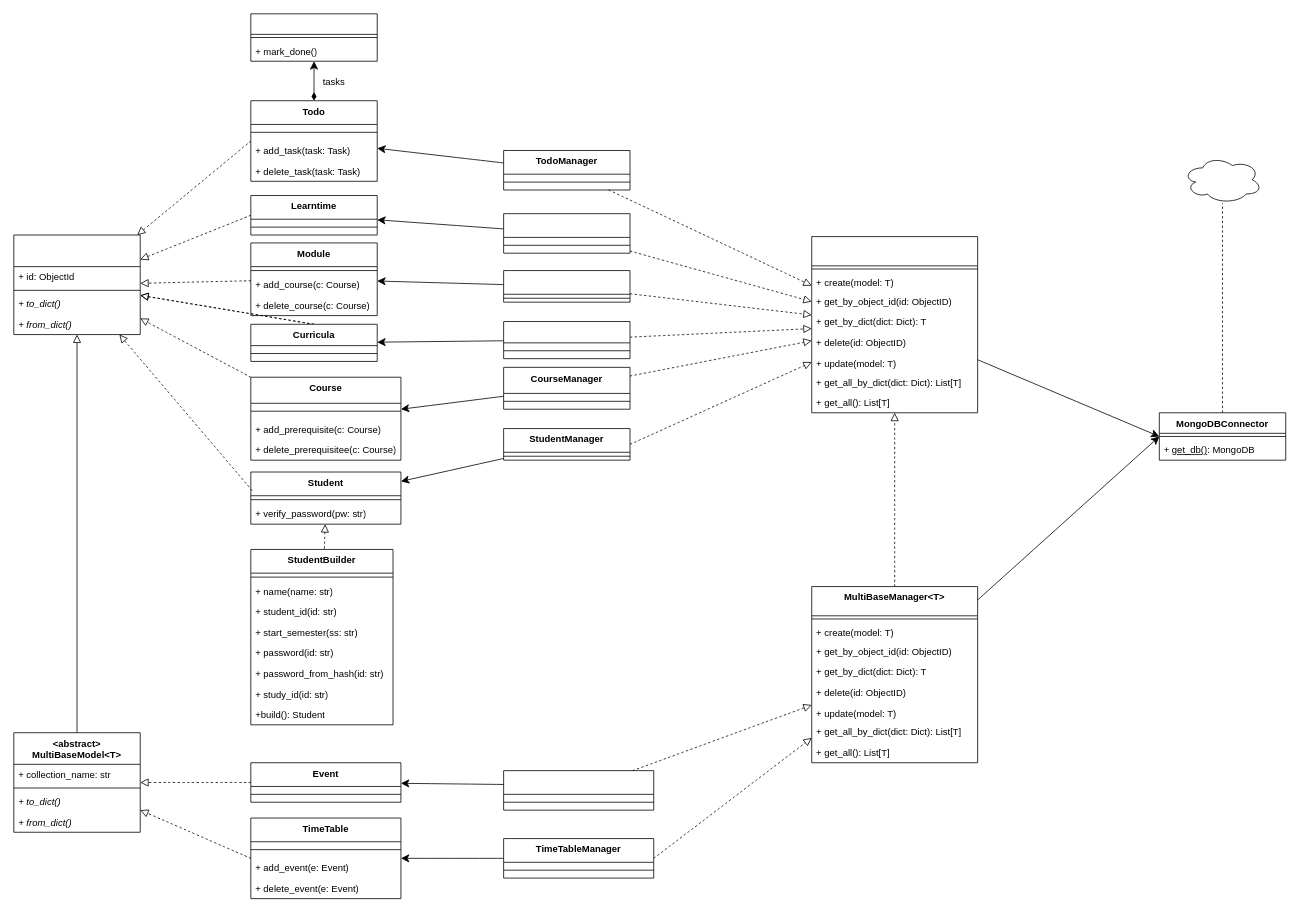
The diagram is 1300 pixels wide and 915 high, and some of its shapes have lost their labels. Here are the shapes that lost their labels. From the top down, the box of each, then its label:
(250, 13, 377, 61): Task
(1182, 155, 1262, 203): MongoDB
(503, 213, 630, 253): LearntimeManager
(13, 234, 140, 335): <abstract> BaseModel<T>
(503, 270, 630, 302): ModuleManager
(503, 321, 630, 359): CurriculaManager
(811, 236, 978, 413): BaseManager<T>
(503, 770, 654, 810): EventManager
